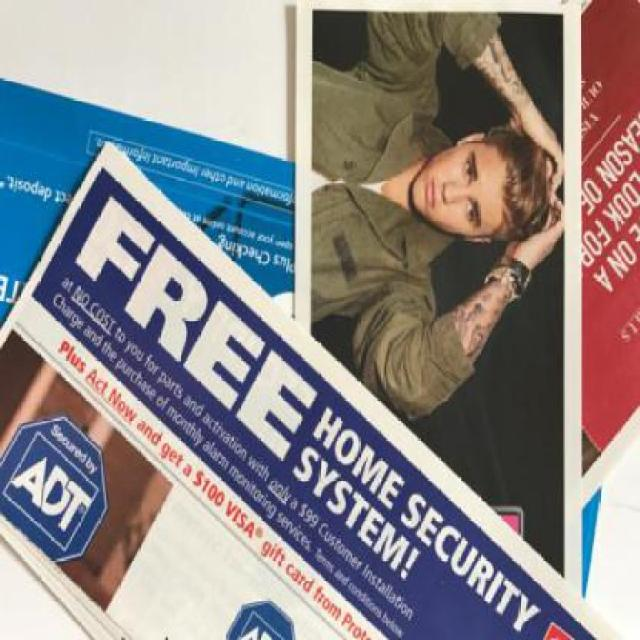PAPER: (1, 79, 602, 602), (0, 143, 631, 639), (298, 2, 584, 603), (582, 1, 638, 514)
